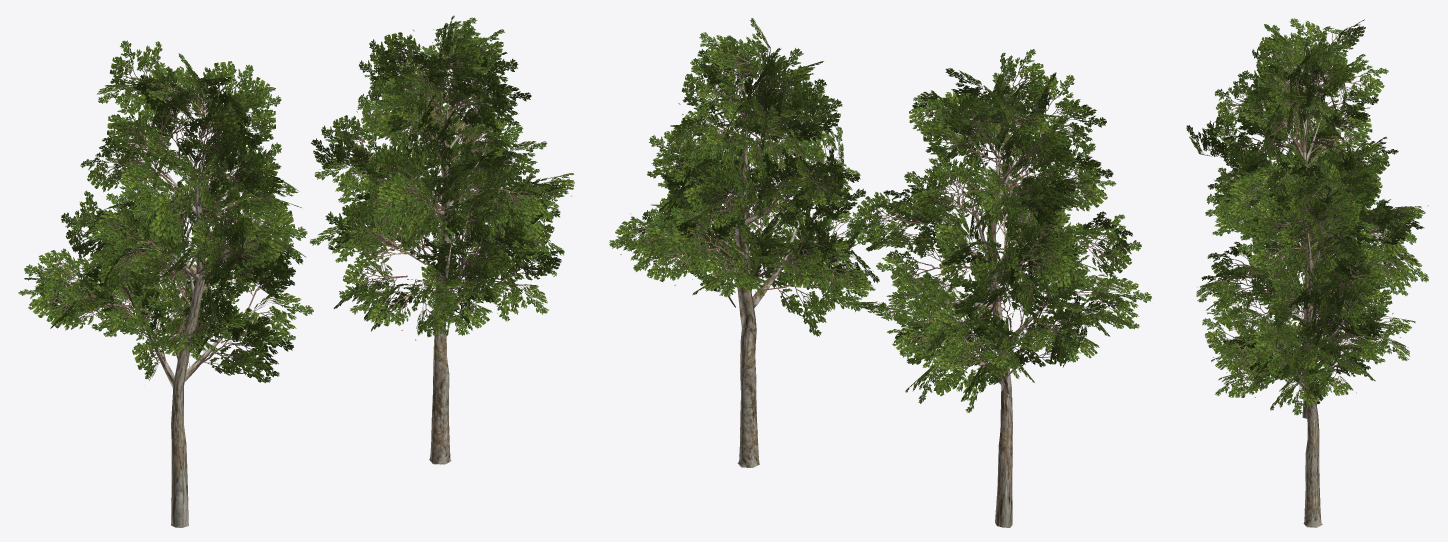
File: Tree.fbx
3 renders of one model, left to right at view 1: azimuth 30°, elevation 25°; view 2: azimuth 150°, elevation 25°; view 3: azimuth 270°, elevation 25°, orthographic. The views are drawn at different scales.
Parts seen in each view (by area): view 1: Tree 1, Tree 2; view 2: Tree 1, Tree 2; view 3: Tree 2, Tree 1.
Boxes of the visible parts, box(x1,y1,x2,y2) form: Tree 1: box(18, 40, 313, 527); Tree 2: box(310, 15, 574, 464); Tree 1: box(845, 49, 1151, 527); Tree 2: box(609, 18, 879, 467); Tree 2: box(1196, 152, 1417, 527); Tree 1: box(1186, 18, 1428, 418).
Size of the model in its own units: 1073 by 899 by 522.
1 material, 1 textured.
